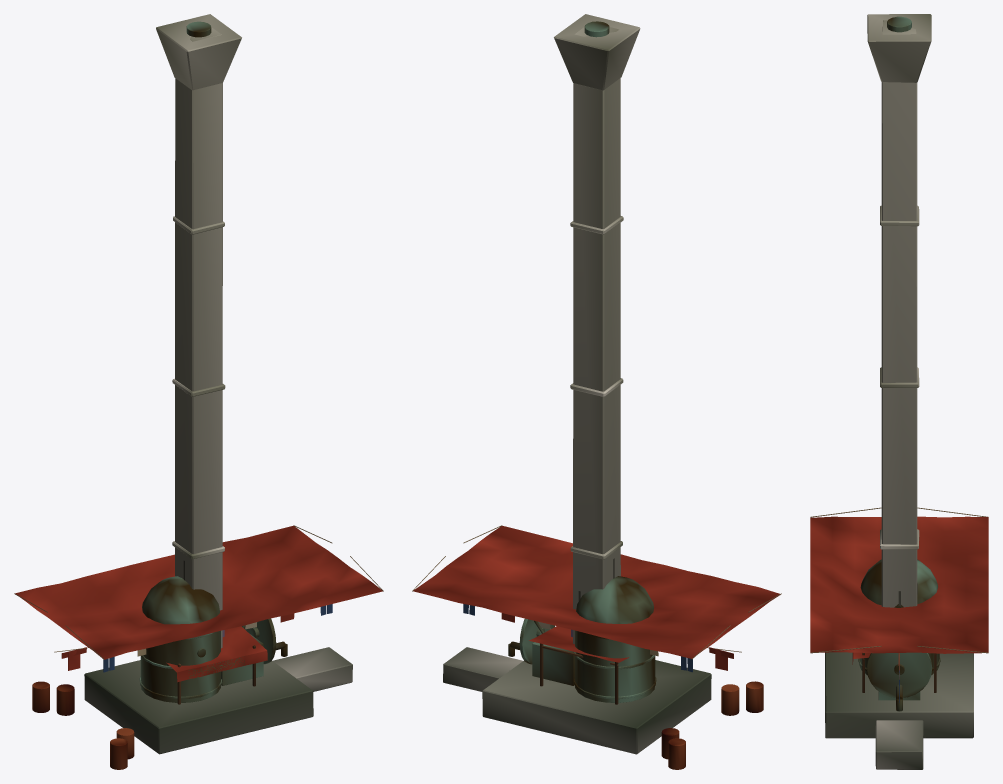
Rendered from r2_cisterna.glb.
The picture shows the model from 3 angles, left to right: view 1: azimuth 30°, elevation 25°; view 2: azimuth 150°, elevation 25°; view 3: azimuth 270°, elevation 25°; orthographic projection.
Visible parts, largest first — view 1: coluna_reservatorio, bomba_dagua, lona_mercado_a, banca_mercado_a, varal_12; view 2: coluna_reservatorio, bomba_dagua, lona_mercado_a, banca_mercado_a, varal_12; view 3: coluna_reservatorio, lona_mercado_a, bomba_dagua, banca_mercado_a.
Part boxes in pixels (box(x1,y1,x2,y2)): coluna_reservatorio: box(156, 14, 241, 648); bomba_dagua: box(32, 21, 352, 769); lona_mercado_a: box(14, 525, 383, 659); banca_mercado_a: box(166, 626, 267, 704); varal_12: box(54, 604, 332, 672); coluna_reservatorio: box(554, 14, 640, 651); bomba_dagua: box(443, 21, 763, 769); lona_mercado_a: box(412, 525, 781, 659); banca_mercado_a: box(529, 626, 628, 704); varal_12: box(463, 604, 741, 672); coluna_reservatorio: box(867, 14, 931, 607); lona_mercado_a: box(810, 507, 988, 653); bomba_dagua: box(825, 16, 973, 769); banca_mercado_a: box(852, 652, 936, 692).
Size of the model in its own units: 11.2 by 25.2 by 6.
